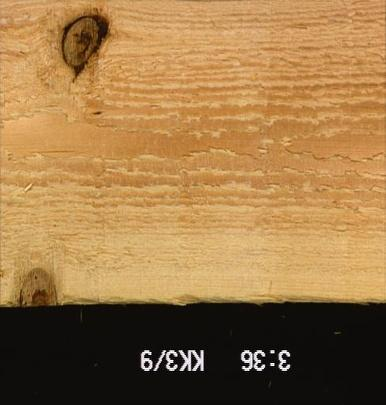edge_knot: (15, 266, 59, 306)
wave: (61, 293, 385, 306)
